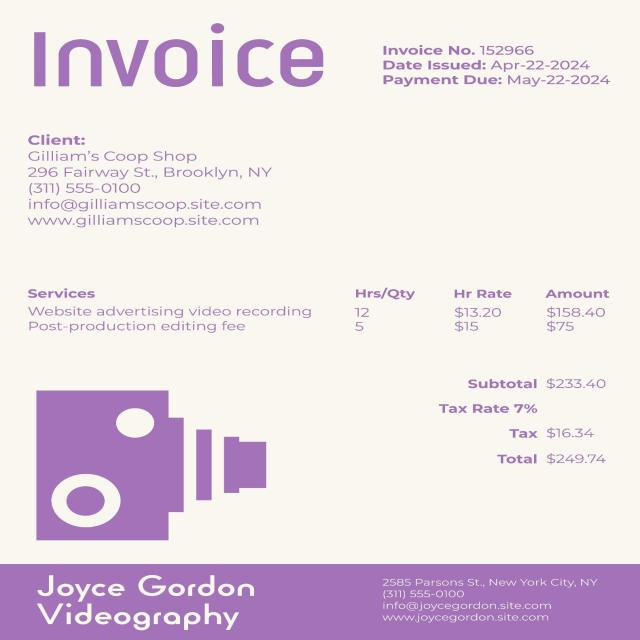paragraph: (22, 124, 281, 238), (8, 15, 330, 94), (424, 368, 616, 471), (31, 566, 266, 637), (370, 568, 616, 635), (364, 35, 620, 90)
table: (10, 278, 621, 337)
